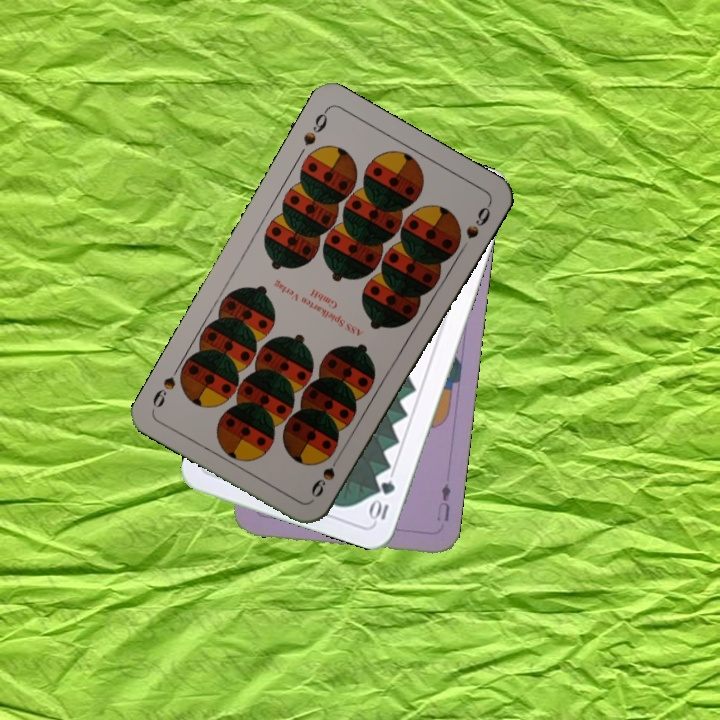EU: (433, 479, 453, 524)
G10: (367, 476, 398, 525)
S9: (306, 448, 345, 501), (299, 105, 331, 149)
